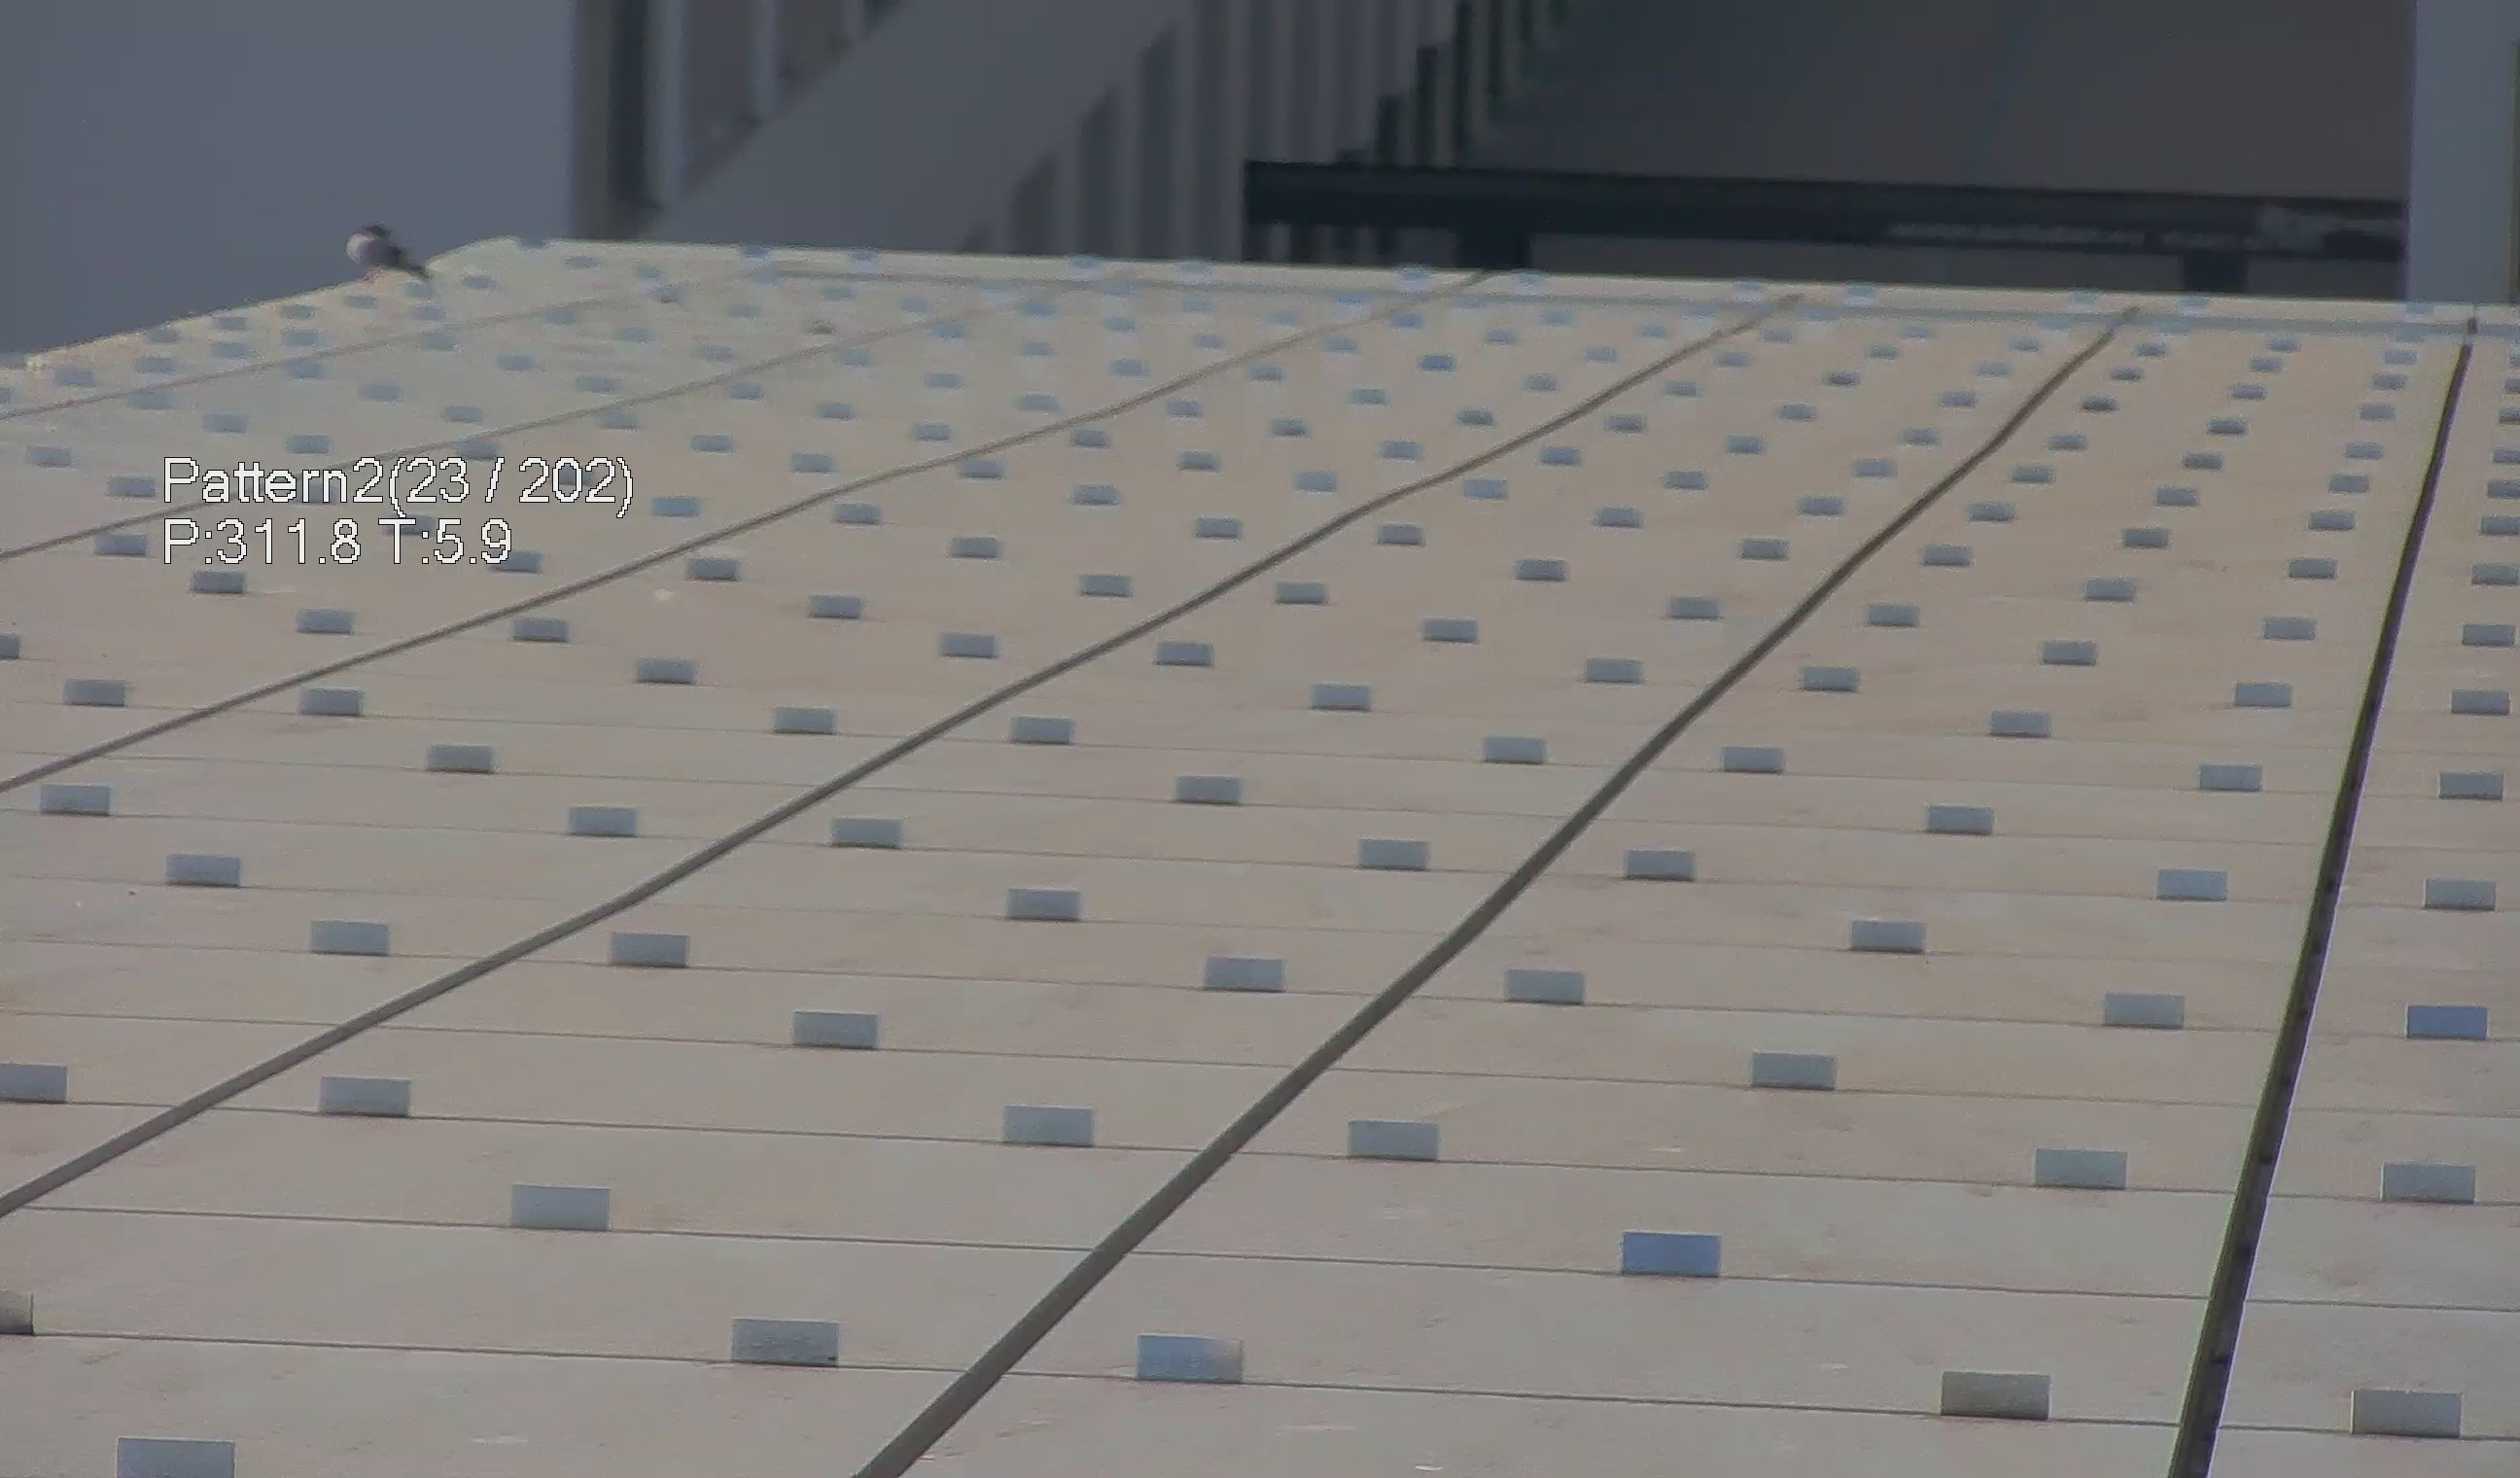Pigeon: (325, 215, 417, 280)
